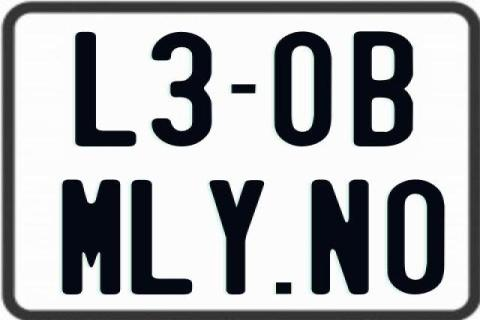0: (152, 32, 216, 150), (384, 177, 446, 292), (272, 31, 331, 149)
B: (354, 29, 415, 145)
L: (73, 31, 135, 148), (129, 180, 190, 296)
M: (60, 177, 122, 293)
N: (311, 178, 372, 298)
Y: (208, 179, 269, 296)
